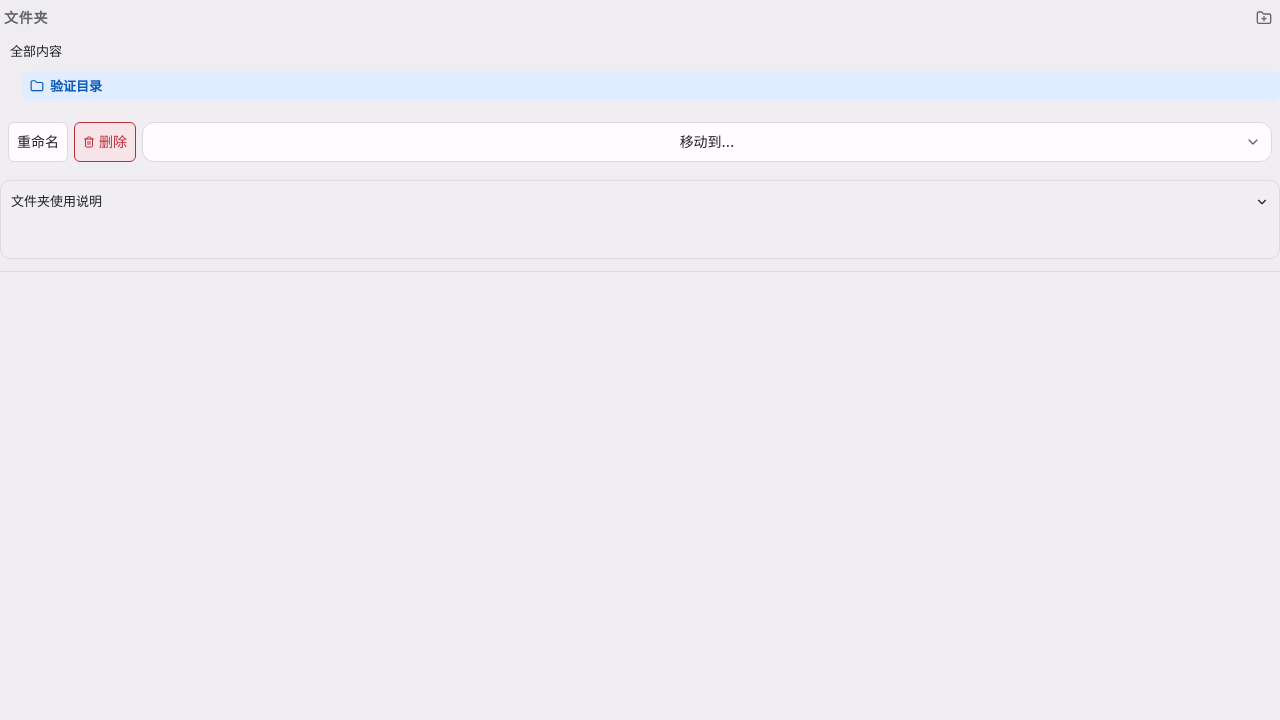
Test: folder deletion › explains that content is retained and cancellation leaves the folder alone
The width and height of the screenshot is (1280, 720).
What coordinates should you click on to do the following:
click the button "删除"
I would click on:
 (105, 142)
Its box is [74,122,136,162].
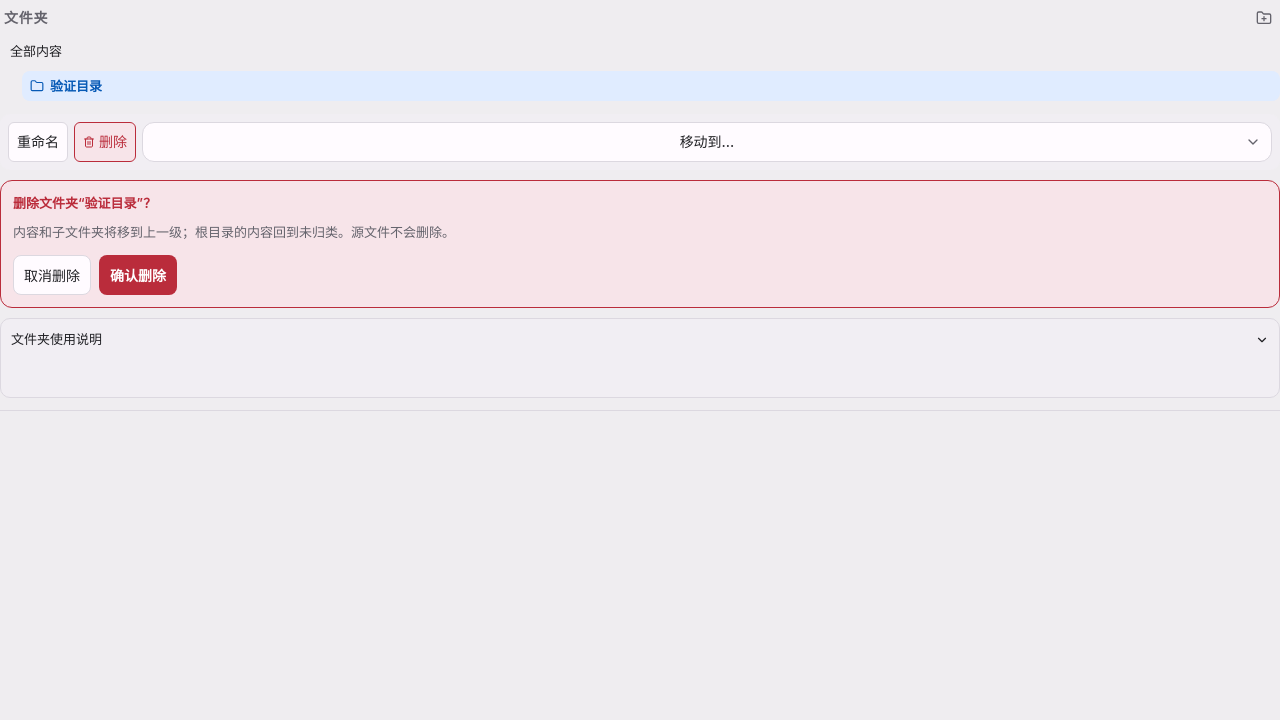
Expected: the dialog "删除文件夹" shows "源文件不会删除", [13,224,455,240]
What coordinates should you click on to do the following:
click the button "取消删除"
I would click on:
 (52, 275)
Its box is [13,255,91,295].
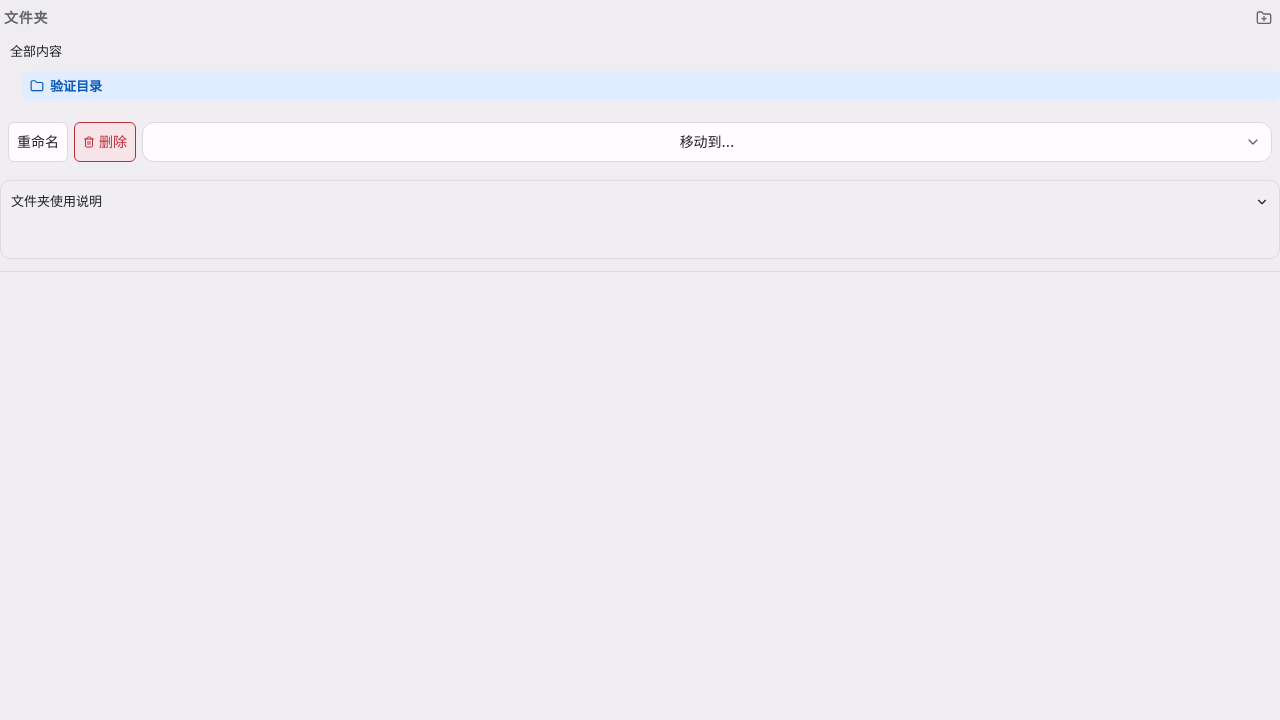
Expected: the dialog is gone
